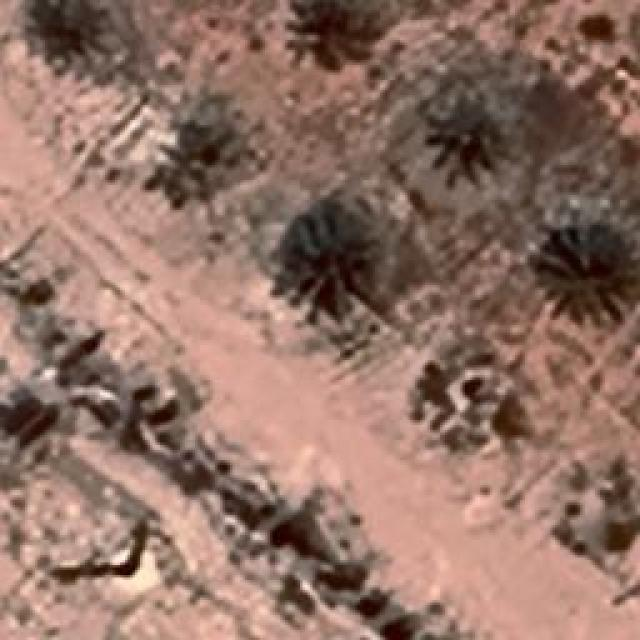PalmTree: (28, 88, 99, 439), (99, 88, 476, 134), (275, 205, 380, 313), (540, 220, 635, 322), (15, 0, 120, 62), (301, 0, 384, 65)
